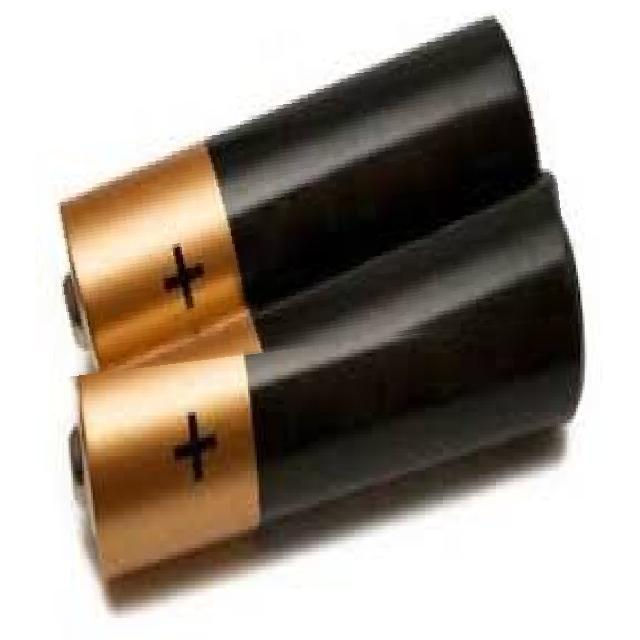Battery: (58, 193, 593, 591), (37, 6, 555, 377)
